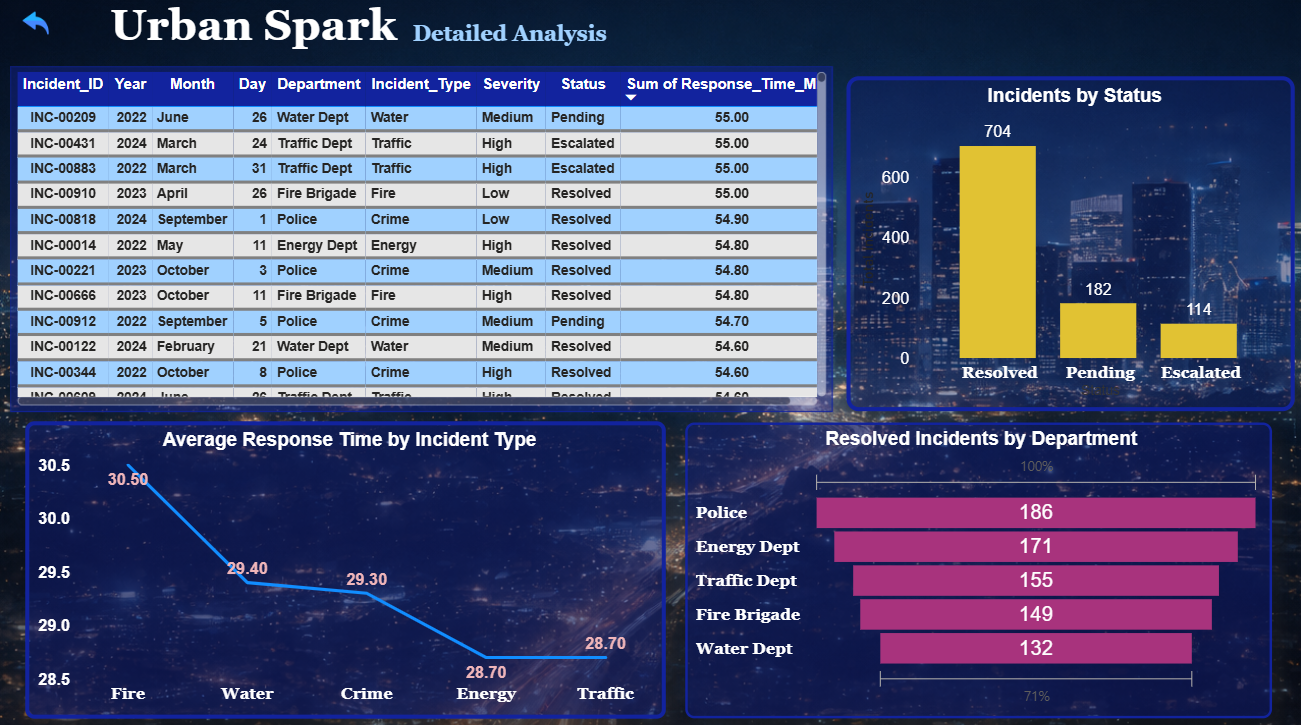

What the dashboard file says about the page in this screenshot:
{"tool":"powerbi","page":{"name":"Detailed","canvas":[1280,720],"ordinal":2},"visuals":[{"type":"textbox","box":[82.9,0,332.8,80.3],"z":0},{"type":"tableEx","fields":{"Values":["Incidents_Raw.Incident_ID","Incidents_Raw.Date.Variation.Date Hierarchy.Year","Incidents_Raw.Date.Variation.Date Hierarchy.Month","Incidents_Raw.Date.Variation.Date Hierarchy.Day","Incidents_Raw.Department","Incidents_Raw.Incident_Type","Incidents_Raw.Severity","Incidents_Raw.Status","Sum(Incidents_Raw.Response_Time_Mins)"]},"box":[11.5,70.1,807.2,339.2],"z":1000},{"type":"textbox","box":[401.7,20.4,223.2,39.5],"z":2000},{"type":"columnChart","title":"Incidents by Status","fields":{"Category":["Incidents_Raw.Status"],"Y":["Incidents_Raw.Total Incidents"]},"box":[831.4,80.3,439.9,329],"z":3000},{"type":"lineChart","title":"Average Response Time by Incident Type","fields":{"Y":["Incidents_Raw.Avg Response Time"],"Category":["Incidents_Raw.Incident_Type"]},"box":[25.5,418.3,628.7,292],"z":4000},{"type":"funnel","fields":{"Category":["Incidents_Raw.Department"],"Y":["Incidents_Raw.Resolved Incidents"]},"box":[673.3,419.5,576.4,290.7],"z":5000},{"type":"image","box":[0,15.3,71.4,25.5],"z":7000}]}

Visuals, with their boxes in screenshot pixels (x1, y1, x2, y2), scaled from the page's 1280x720 canvas onto the 1301x725 screenshot:
textbox: 84/0/423/81
tableEx - Incidents_Raw.Incident_ID x Incidents_Raw.Date.Variation.Date Hierarchy.Year: 12/71/832/412
textbox: 408/21/635/60
"Incidents by Status" columnChart: 845/81/1292/412
"Average Response Time by Incident Type" lineChart: 26/421/665/715
funnel - Incidents_Raw.Department x Incidents_Raw.Resolved Incidents: 684/422/1270/715
image: 0/15/73/41
